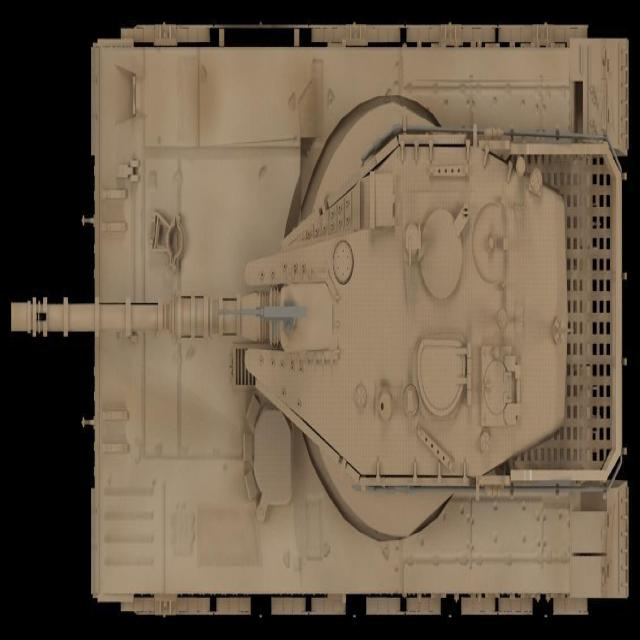Tanks: (11, 18, 628, 610)
